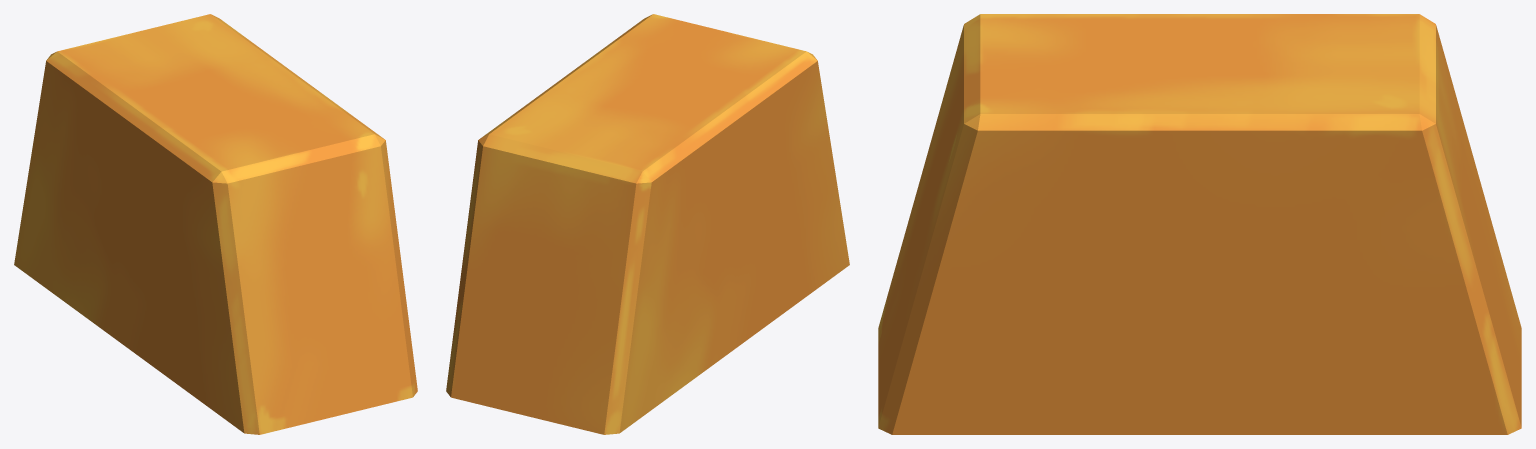
The model's file is ToitVacheCloche.fbx.
3 renders of one model, left to right at view 1: azimuth 30°, elevation 25°; view 2: azimuth 150°, elevation 25°; view 3: azimuth 270°, elevation 25°, orthographic. The views are drawn at different scales.
Visible parts, largest first — view 1: ToitVacheCloche; view 2: ToitVacheCloche; view 3: ToitVacheCloche.
Part boxes in pixels (x1,y1,x2,y2): ToitVacheCloche: (14,14,417,434); ToitVacheCloche: (446,14,849,434); ToitVacheCloche: (878,14,1521,434).
Bounding box in the file's own units: 6.2 × 8.04 × 14.91.
